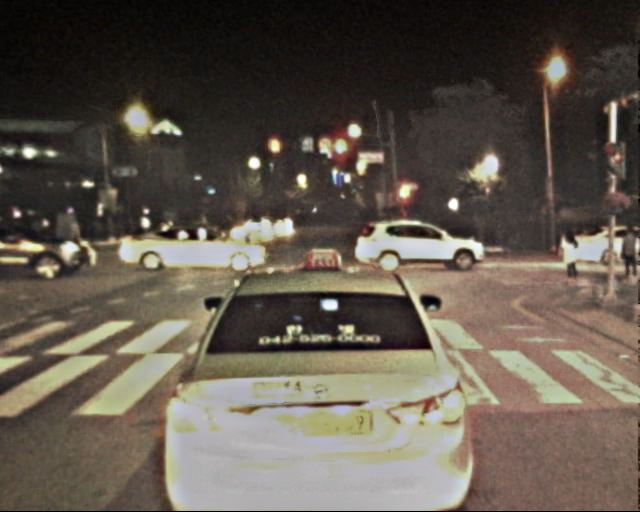person: (617, 227, 639, 285), (562, 227, 585, 282)
